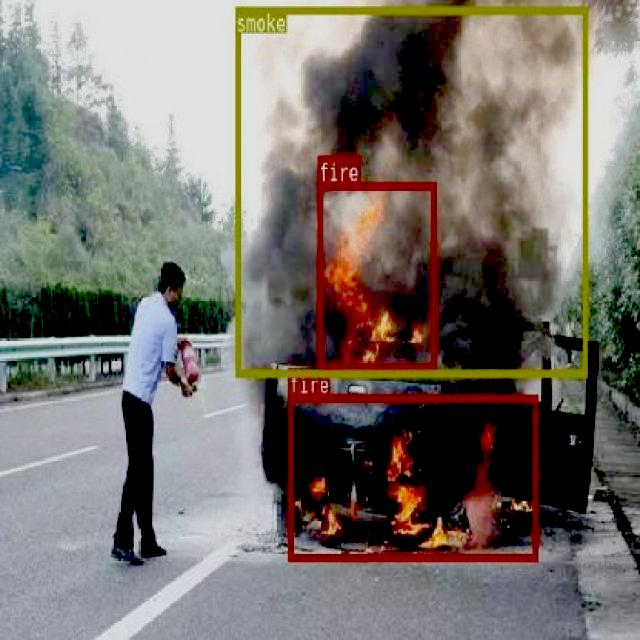fire: (288, 392, 537, 560), (316, 181, 436, 370)
smoke: (234, 7, 586, 376)
